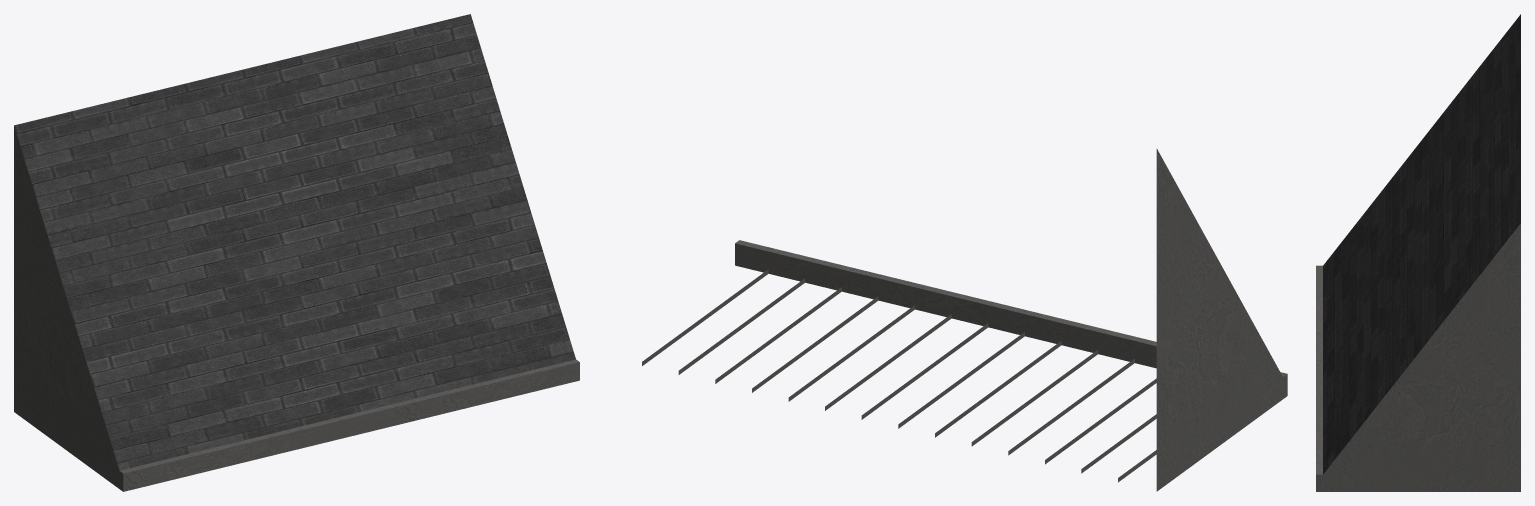
The model's file is Sm_Roof01b.glb.
3 renders of one model, left to right at view 1: azimuth 30°, elevation 25°; view 2: azimuth 150°, elevation 25°; view 3: azimuth 270°, elevation 25°, orthographic. The views are drawn at different scales.
Visible parts, largest first — view 1: Sm_Roof01b; view 2: Sm_Roof01b; view 3: Sm_Roof01b.
Part boxes in pixels (box(x1,y1,x2,y2)): Sm_Roof01b: box(14, 14, 579, 491); Sm_Roof01b: box(642, 148, 1287, 491); Sm_Roof01b: box(1316, 14, 1520, 491).
Bounding box in the file's own units: 250 × 150 × 104.
Materials: 2 (2 with a texture image).
